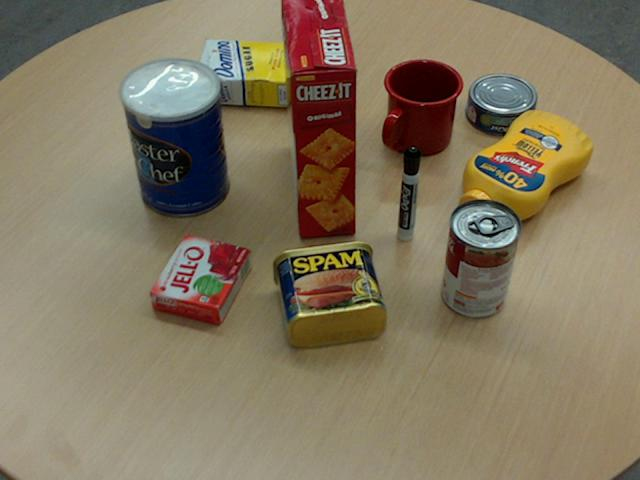cracker_box: (281, 0, 357, 237)
gelatin_box: (149, 232, 251, 323)
large_marker: (398, 147, 421, 240)
master_chef_can: (120, 58, 228, 217)
mug: (382, 58, 463, 155)
mustard_bottle: (456, 110, 591, 227)
potted_meat_can: (271, 239, 385, 346)
sugar_box: (194, 38, 338, 108)
tomato_soup_can: (441, 197, 521, 317)
tuna_fish_can: (465, 73, 536, 135)
